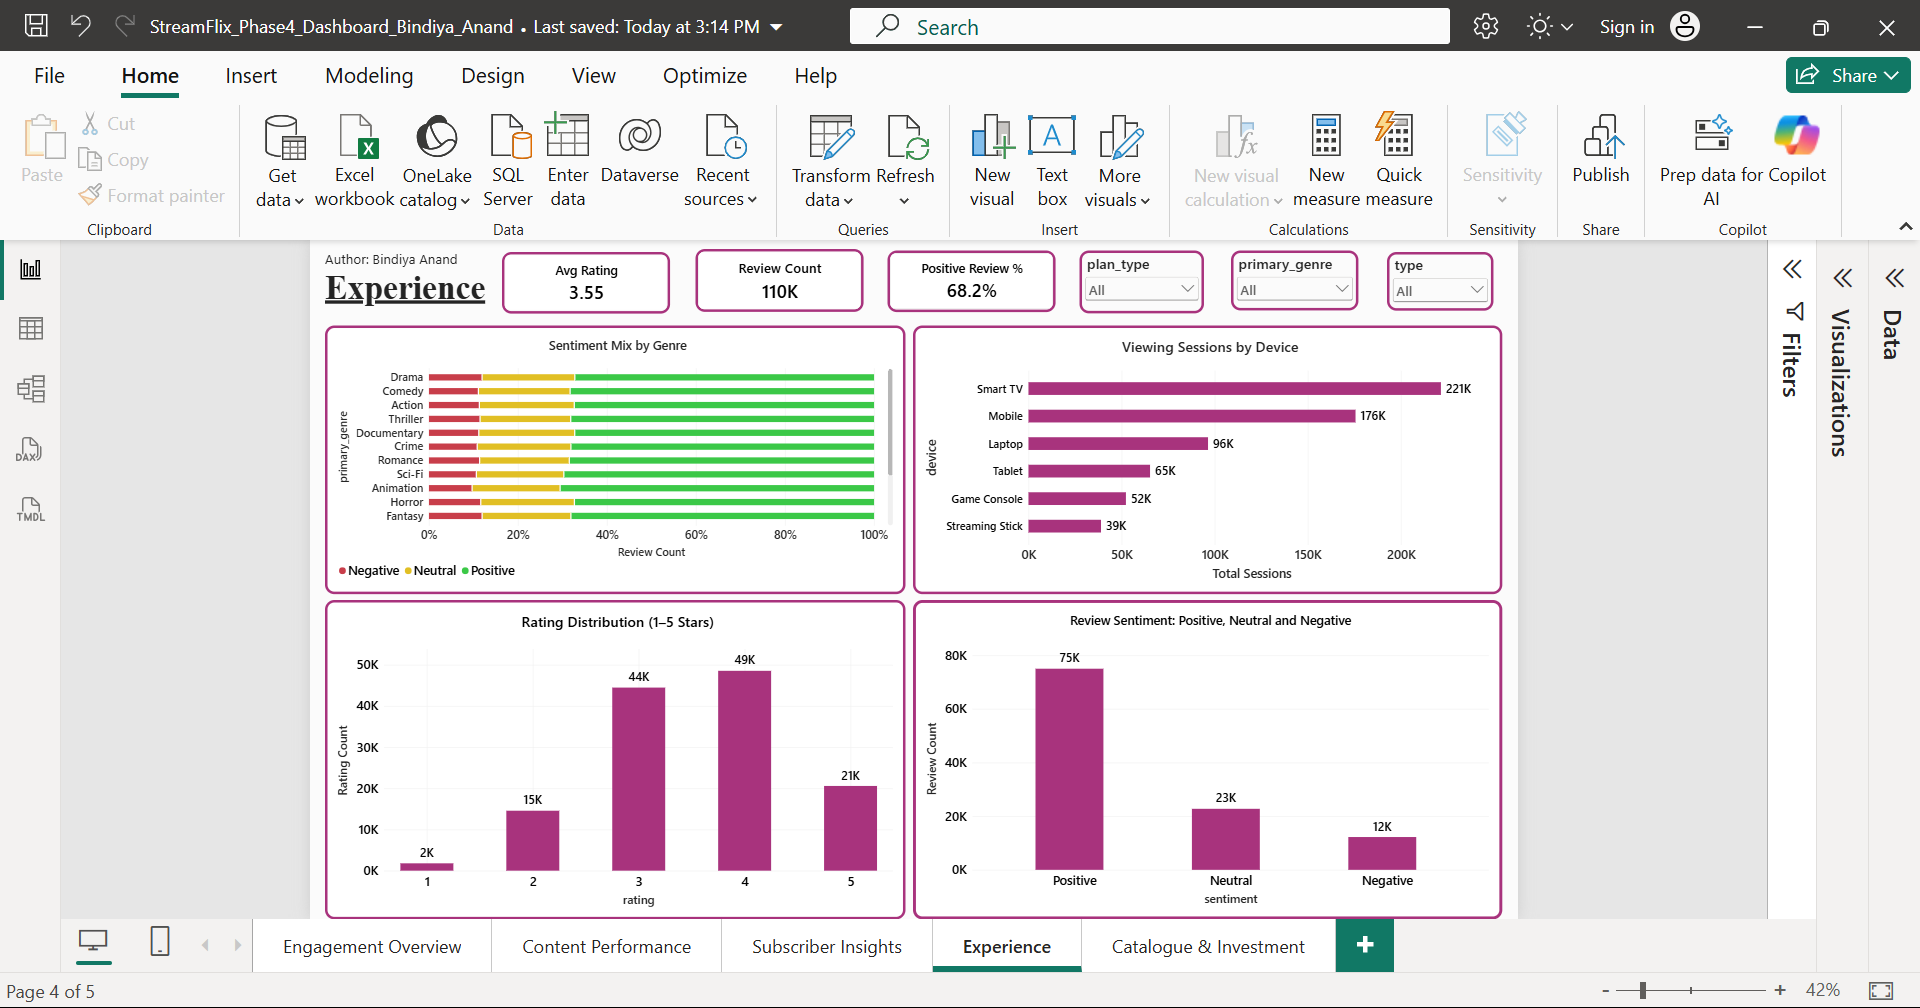

This screenshot's page, from the dashboard's own definition file:
{"tool":"powerbi","page":{"name":"Experience","canvas":[1920,1080],"ordinal":3},"visuals":[{"type":"textbox","box":[9.5,0,281.5,69.2],"z":0},{"type":"textbox","box":[23.9,45.3,281.5,69.2],"z":1000},{"type":"textbox","box":[23.9,14.3,221.9,31],"z":2000},{"type":"cardVisual","fields":{"Data":["_Measures.Avg Rating"]},"box":[305.4,19.1,267.2,97.8],"z":3000},{"type":"cardVisual","fields":{"Data":["_Measures.Review Count"]},"box":[613.2,14.3,267.2,100.2],"z":4000},{"type":"cardVisual","fields":{"Data":["_Measures.Positive Review %"]},"box":[918.6,16.7,267.2,97.8],"z":5000},{"type":"clusteredBarChart","title":"Viewing Sessions by Device","fields":{"Category":["watch_history.device"],"Y":["_Measures.Total Sessions"]},"box":[959.1,136,937.7,455.7],"z":6000},{"type":"clusteredColumnChart","title":"Rating Distribution (1–5 Stars)","fields":{"Category":["ratings.rating"],"Y":["_Measures.Rating Count"]},"box":[23.9,608.4,923.3,472.4],"z":7000},{"type":"clusteredColumnChart","title":"Review Sentiment: Positive, Neutral and Negative","fields":{"Category":["reviews.sentiment"],"Y":["_Measures.Review Count"]},"box":[959.1,608.4,937.7,472.4],"z":8000},{"type":"hundredPercentStackedBarChart","title":"Sentiment Mix by Genre","fields":{"Category":["titles.primary_genre"],"Series":["reviews.sentiment"],"Y":["_Measures.Review Count"]},"box":[23.9,136,923.3,455.7],"z":9000},{"type":"slicer","fields":{"Values":["subscribers.plan_type"]},"box":[1224,16.7,198,100.2],"z":10000},{"type":"slicer","fields":{"Values":["titles.primary_genre"]},"box":[1465,16.7,202.8,95.4],"z":11000},{"type":"slicer","fields":{"Values":["titles.type"]},"box":[1713.1,19.1,169.4,93.1],"z":12000}]}

Visuals, with their boxes on the page's 1920x1080 design canvas (x1, y1, x2, y2). These are canvas units, not pixel positions in the 1920x1008 screenshot, which may show the page scaled, cropped or inside an application window:
textbox: 10:0:291:69
textbox: 24:45:305:114
textbox: 24:14:246:45
cardVisual - _Measures.Avg Rating: 305:19:573:117
cardVisual - _Measures.Review Count: 613:14:880:114
cardVisual - _Measures.Positive Review %: 919:17:1186:114
"Viewing Sessions by Device" clusteredBarChart: 959:136:1897:592
"Rating Distribution (1–5 Stars)" clusteredColumnChart: 24:608:947:1081
"Review Sentiment: Positive, Neutral and Negative" clusteredColumnChart: 959:608:1897:1081
"Sentiment Mix by Genre" hundredPercentStackedBarChart: 24:136:947:592
slicer - subscribers.plan_type: 1224:17:1422:117
slicer - titles.primary_genre: 1465:17:1668:112
slicer - titles.type: 1713:19:1882:112
